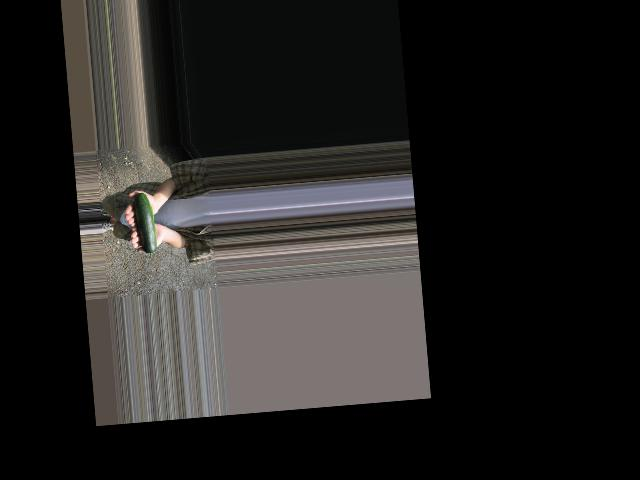cucumber: (132, 192, 158, 261)
